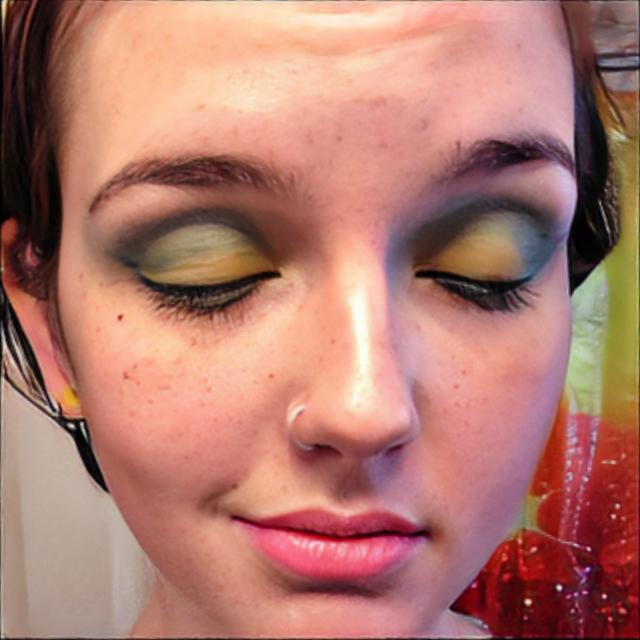content: (56, 0, 579, 640)
